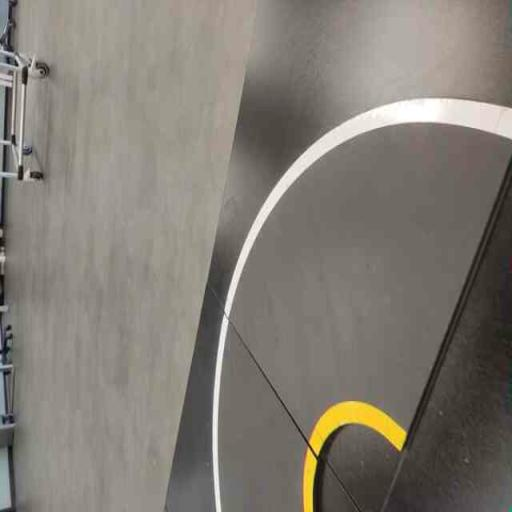left: (213, 44, 510, 455)
